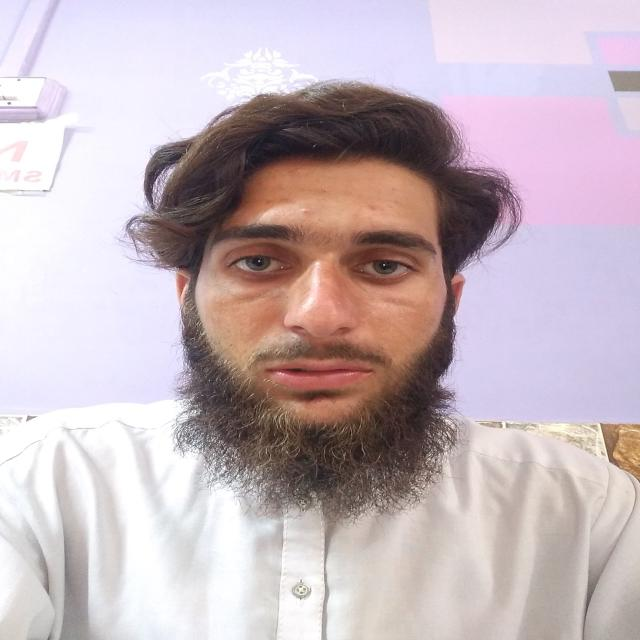Acne: (364, 203, 376, 213), (300, 206, 311, 214), (278, 197, 292, 203), (384, 203, 396, 210), (276, 183, 286, 190), (265, 199, 275, 205)
Englarged-Pores: (378, 304, 409, 329)
Eyebags: (223, 266, 300, 286), (350, 269, 418, 286)
Wrinkles: (291, 187, 396, 202), (234, 289, 278, 306), (252, 322, 276, 348), (378, 295, 420, 308)
